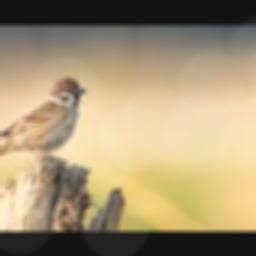Sparrow: (0, 76, 85, 170)
